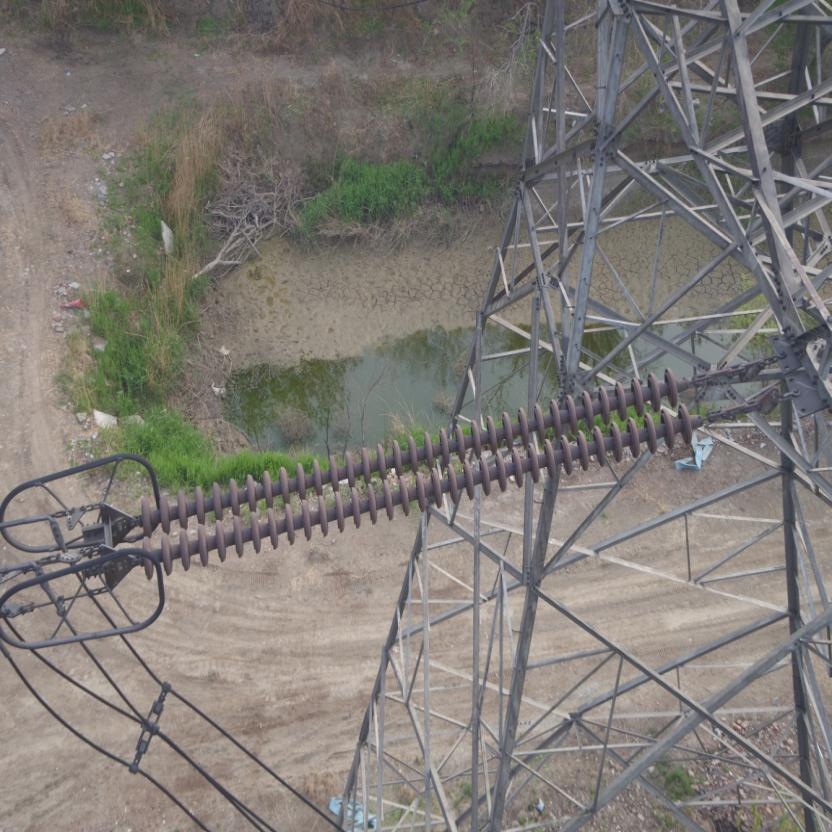insulator: (119, 365, 722, 582)
